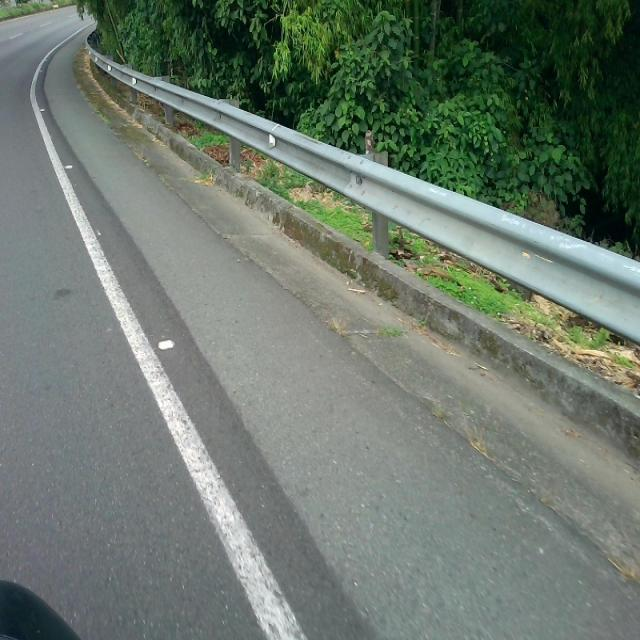DITCH: (1, 24, 638, 637), (31, 22, 639, 637)
